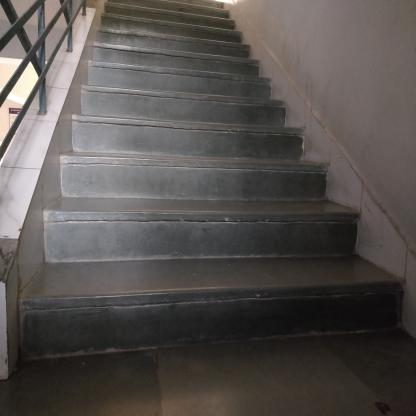stairs: (81, 90, 269, 357)
